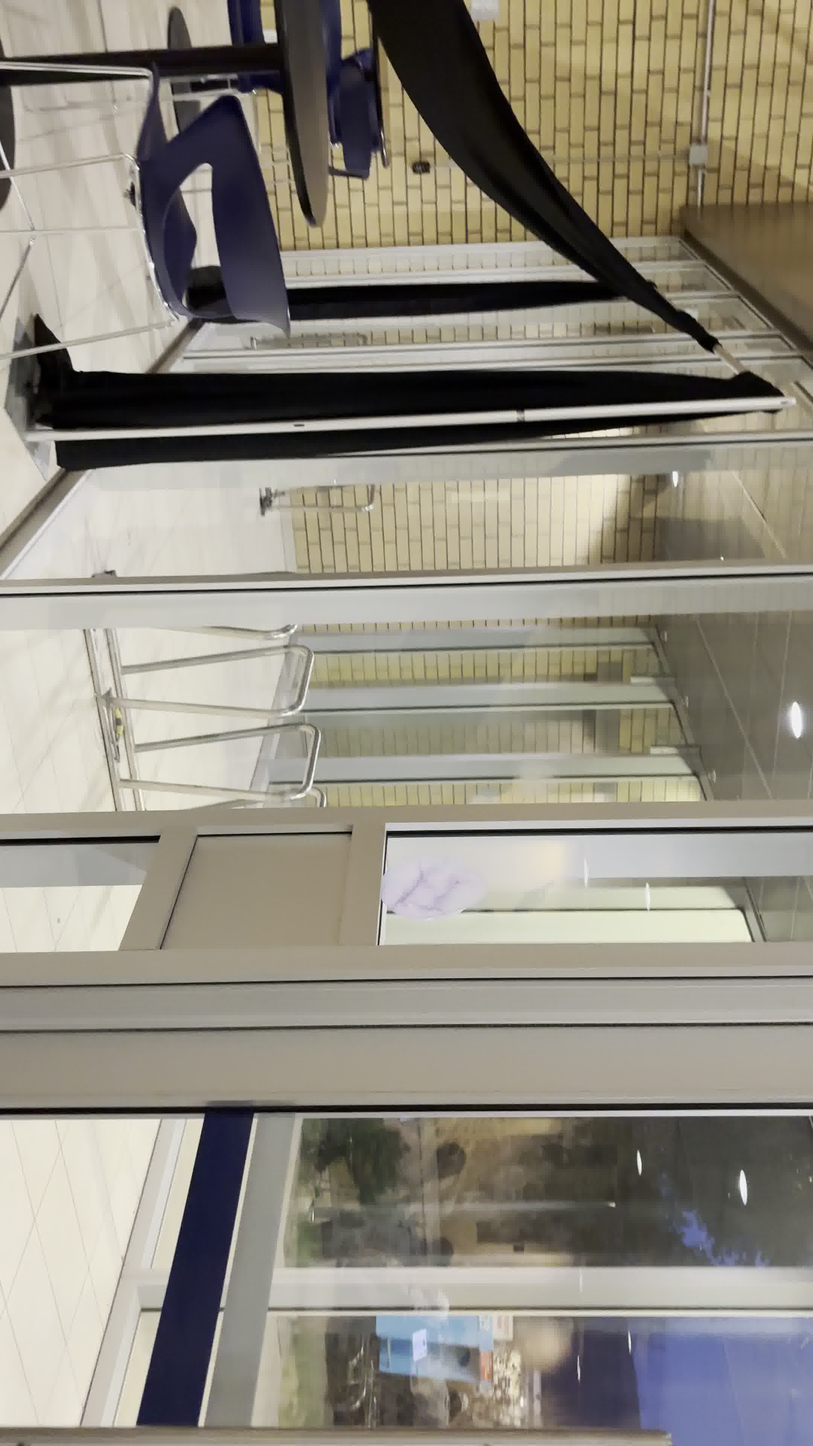Target: (378, 851, 491, 923)
